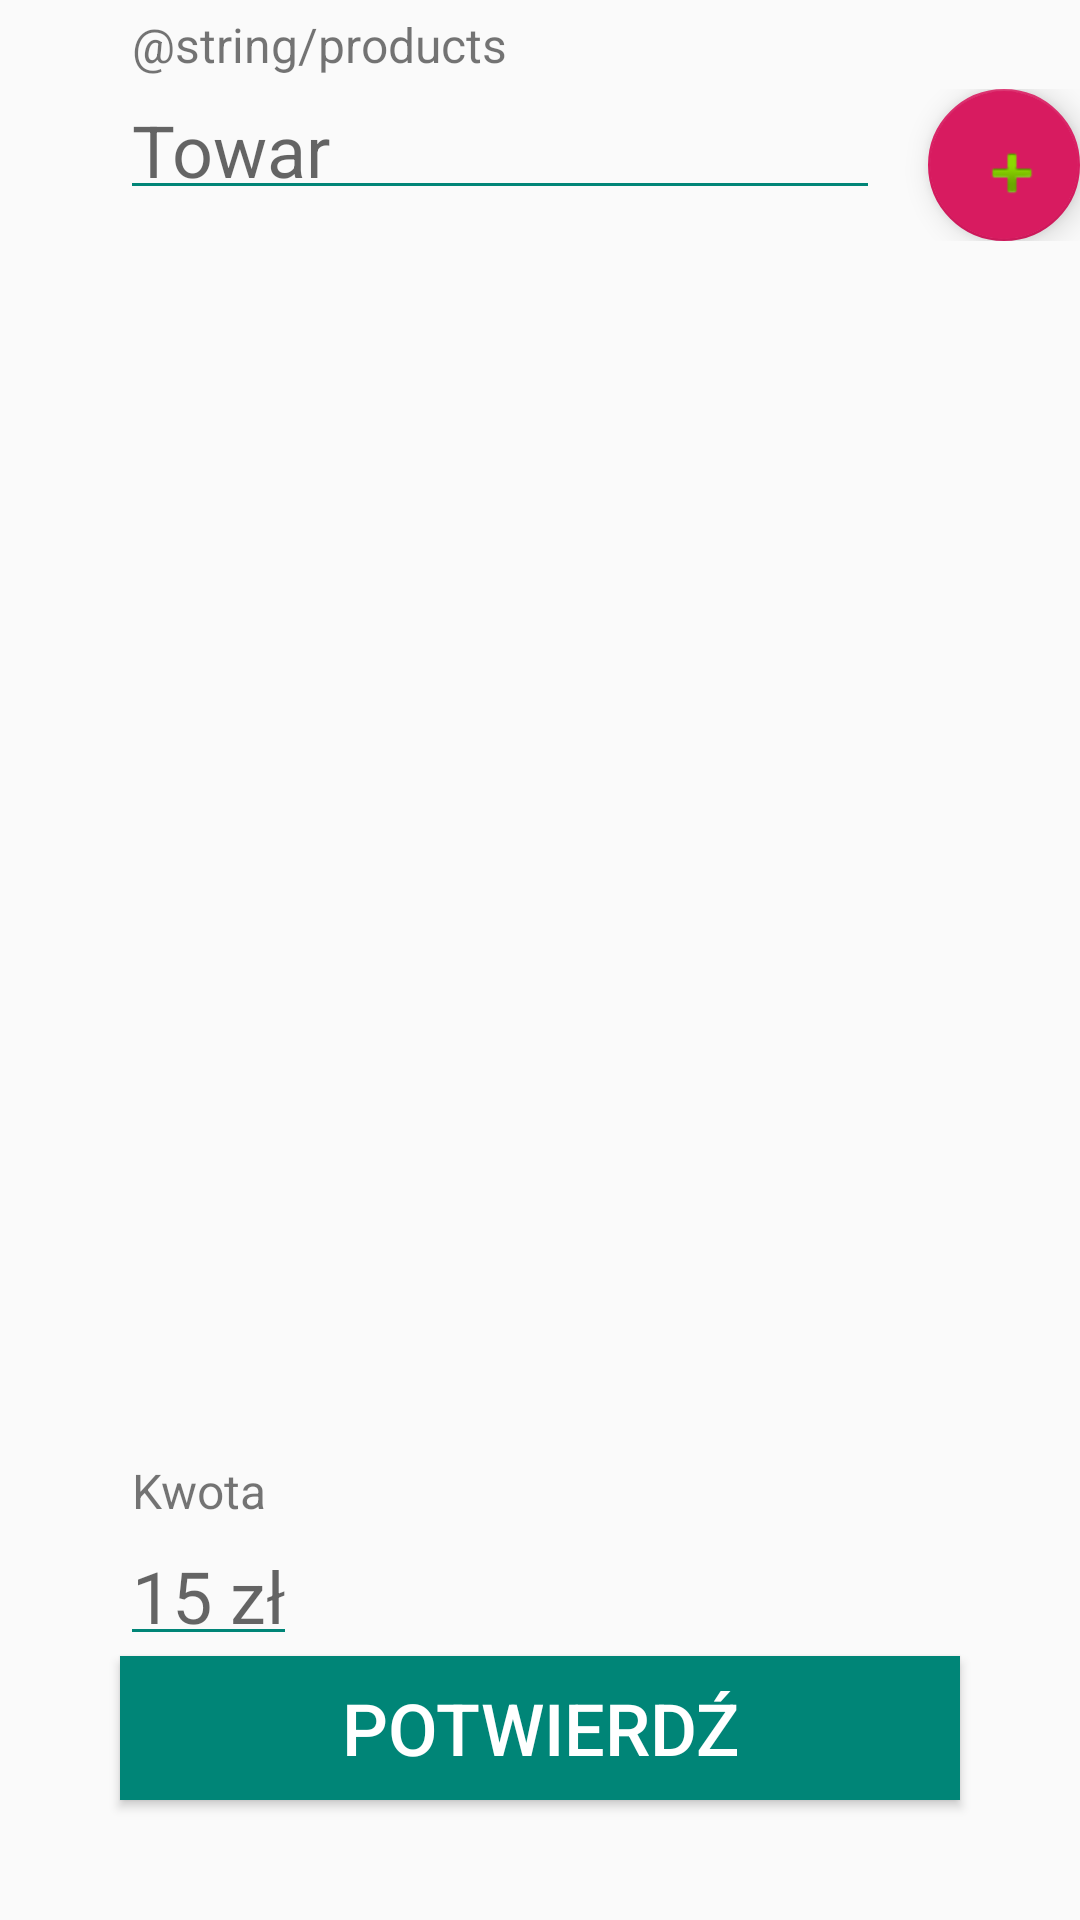

Screen size 1080px x 1920px. Icon name, then its box in pixels as (x1, y1, x2, y2):
add: (928, 89, 1080, 241)
